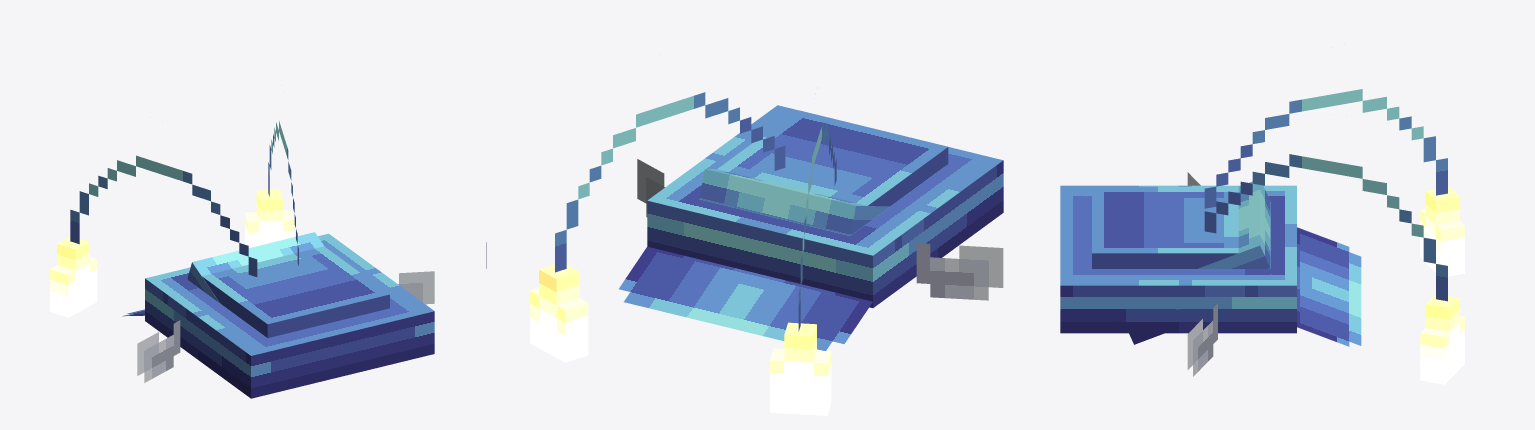
3 views of the same model, side by side, from view 1: azimuth 30°, elevation 25°; view 2: azimuth 150°, elevation 25°; view 3: azimuth 270°, elevation 25° (orthographic). The views are drawn at different scales.
Visible parts, largest first — view 1: cube (×11); view 2: cube (×12); view 3: cube (×11).
Boxes of the visible parts, <box> form: cube (×11): <box>50,121,434,398</box>; cube (×12): <box>486,92,1003,415</box>; cube (×11): <box>1060,89,1464,384</box>.
Bounding box in the file's own units: 1.02 × 0.6406 × 1.09.
1 material, 1 textured.
